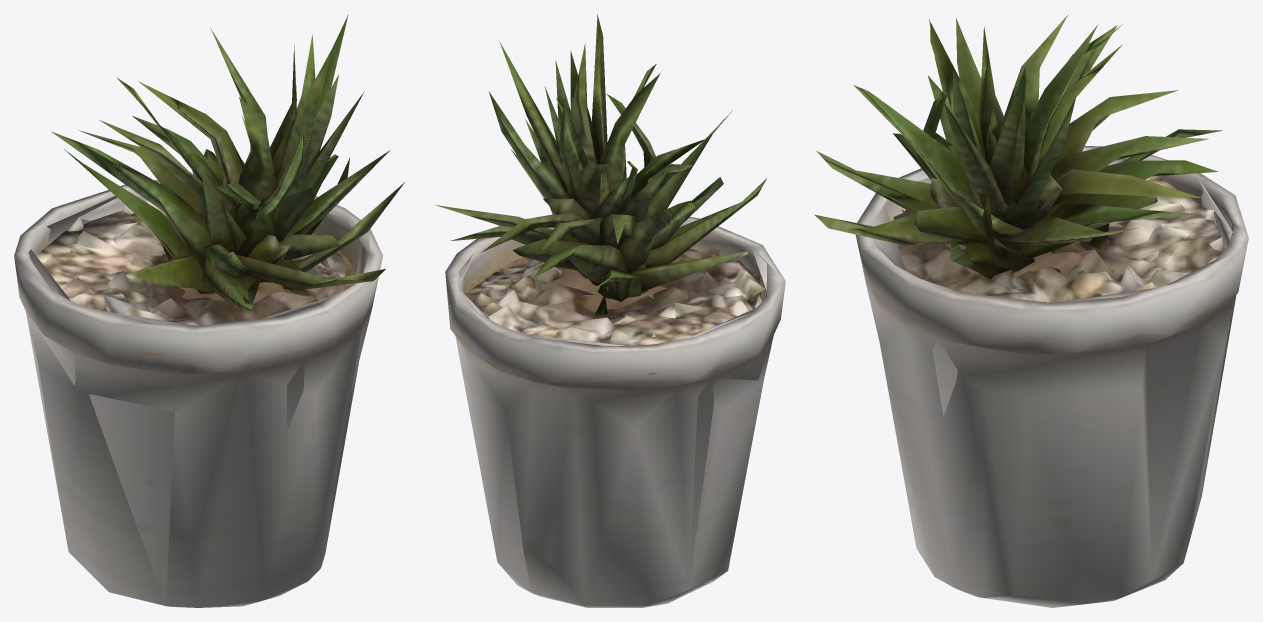
File: potted_plant_04.glb
The picture shows the model from 3 angles, left to right: view 1: azimuth 30°, elevation 25°; view 2: azimuth 150°, elevation 25°; view 3: azimuth 270°, elevation 25°; orthographic projection. The views are drawn at different scales.
Visible parts, largest first — view 1: potted_plant_04_ground, potted_plant_04_ground_lo; view 2: potted_plant_04_ground, potted_plant_04_ground_lo; view 3: potted_plant_04_ground, potted_plant_04_ground_lo.
Part boxes in pixels (x1=…): potted_plant_04_ground: x1=14, y1=14, x2=404, y2=607; potted_plant_04_ground_lo: x1=26, y1=181, x2=371, y2=604; potted_plant_04_ground: x1=435, y1=14, x2=785, y2=607; potted_plant_04_ground_lo: x1=457, y1=135, x2=785, y2=589; potted_plant_04_ground: x1=814, y1=15, x2=1248, y2=607; potted_plant_04_ground_lo: x1=838, y1=155, x2=1237, y2=416.
Bounding box in the file's own units: 0.1664 × 0.2672 × 0.1831.
1 material, 1 textured.
